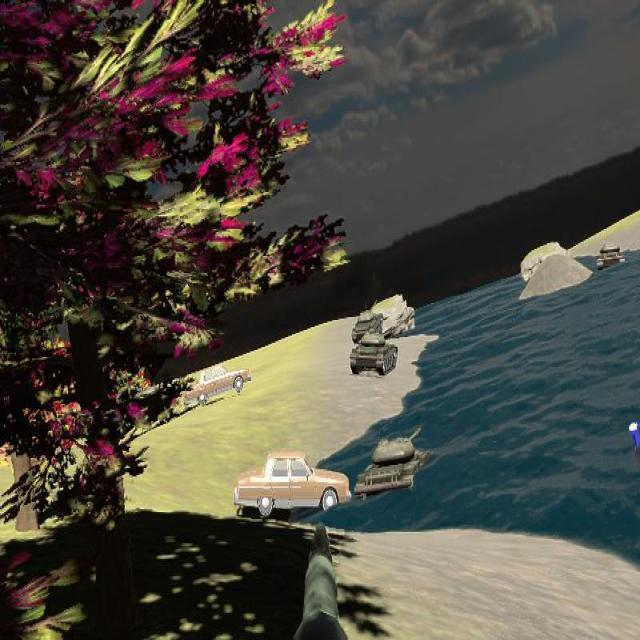Tank: (355, 432, 433, 505), (350, 331, 399, 377), (352, 304, 386, 346)
car: (233, 449, 351, 521), (184, 364, 251, 408)
